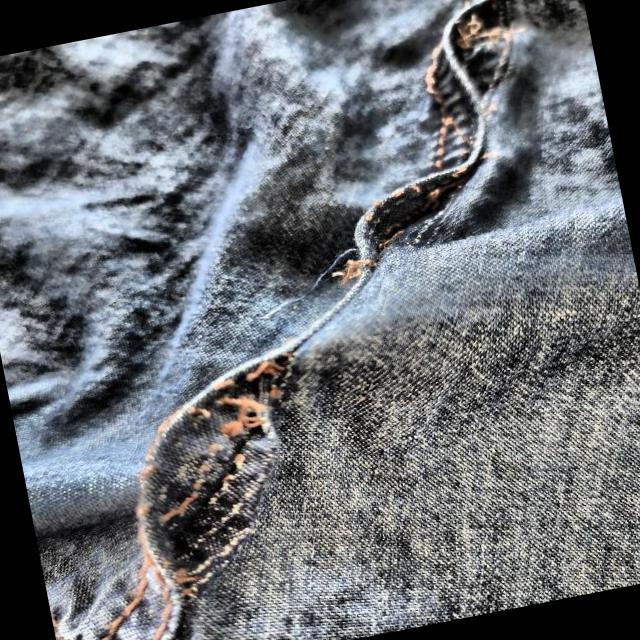gray stitch: (110, 334, 348, 591), (328, 140, 518, 288), (424, 0, 549, 118)
